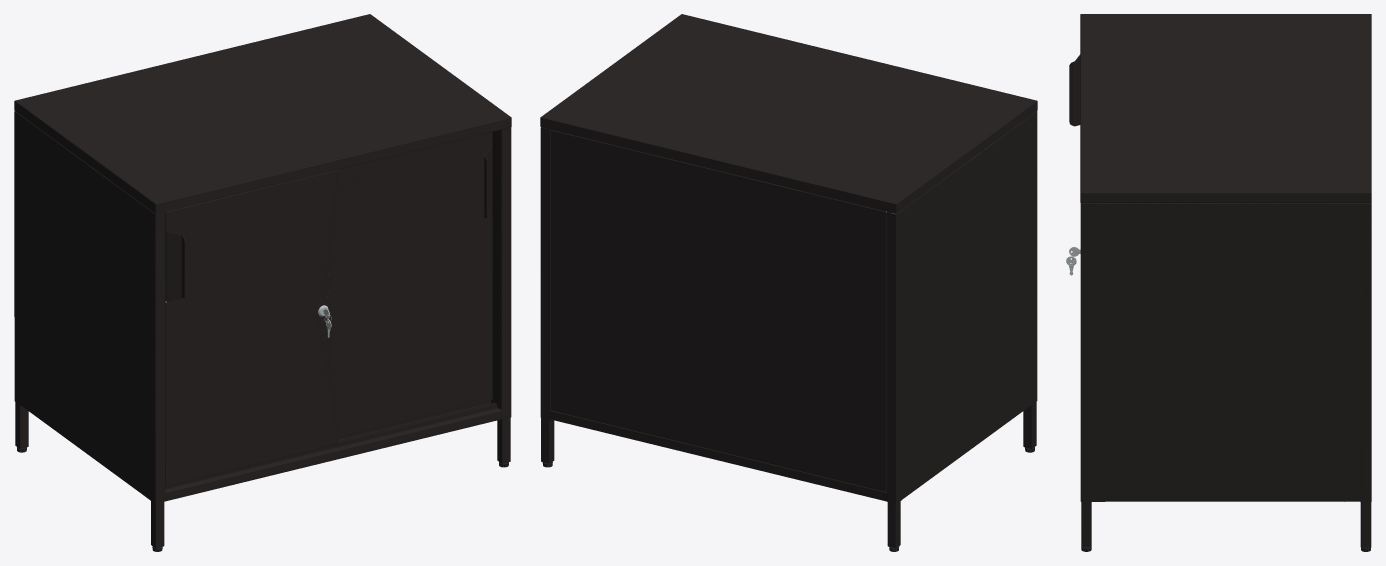
The model's file is trotten_szafka_z_drzwiami_przesuwnymi_00474838.glb.
3 renders of one model, left to right at view 1: azimuth 30°, elevation 25°; view 2: azimuth 150°, elevation 25°; view 3: azimuth 270°, elevation 25°, orthographic. The views are drawn at different scales.
Parts seen in each view (by area): view 1: trotten_szafka_z_drzwiami_przesuwnymi_00474838; view 2: trotten_szafka_z_drzwiami_przesuwnymi_00474838; view 3: trotten_szafka_z_drzwiami_przesuwnymi_00474838.
Boxes of the visible parts, x1,y1,x2,y2 form: trotten_szafka_z_drzwiami_przesuwnymi_00474838: (14, 14, 511, 551); trotten_szafka_z_drzwiami_przesuwnymi_00474838: (540, 14, 1037, 551); trotten_szafka_z_drzwiami_przesuwnymi_00474838: (1066, 14, 1371, 551).
Bounding box in the file's own units: 0.8001 × 0.75 × 0.5776.
Materials: 1 (1 with a texture image).
